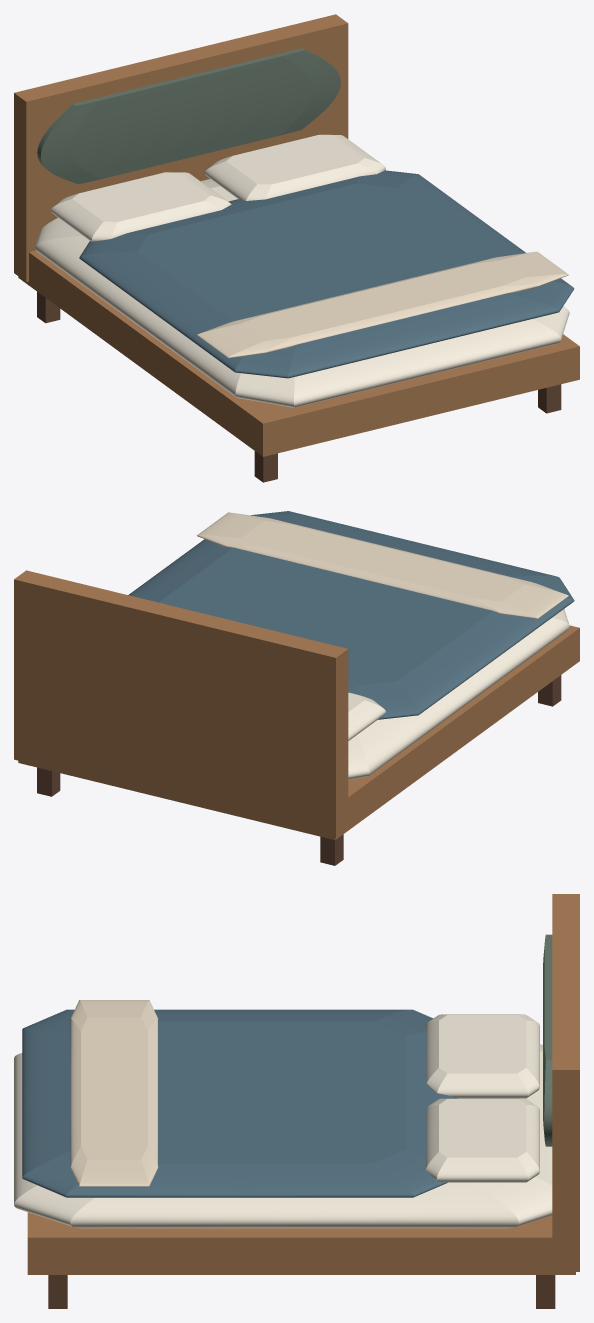
The model's file is double_bed.glb.
The picture shows the model from 3 angles, top to bottom: view 1: azimuth 30°, elevation 25°; view 2: azimuth 150°, elevation 25°; view 3: azimuth 270°, elevation 25°; orthographic projection. The views are drawn at different scales.
Parts seen in each view (by area): view 1: Duvet.001, Bed frame.001, Headboard inset.001, Headboard.001, Mattress.001, Folded blanket.001, Pillow.001, Pillow.002, Leg.004, Leg.006; view 2: Headboard.001, Duvet.001, Folded blanket.001, Bed frame.001, Mattress.001, Pillow.001, Leg.005, Leg.007, Leg.004; view 3: Duvet.001, Bed frame.001, Mattress.001, Folded blanket.001, Headboard.001, Pillow.002, Pillow.001, Headboard inset.001, Leg.006, Leg.007.
Boxes of the visible parts, x1,y1,x2,y2 form: Duvet.001: (79, 170, 574, 378); Bed frame.001: (18, 250, 579, 456); Headboard inset.001: (37, 48, 340, 184); Headboard.001: (14, 14, 348, 281); Mattress.001: (35, 179, 569, 407); Folded blanket.001: (197, 251, 568, 358); Pillow.001: (51, 172, 231, 241); Pillow.002: (204, 134, 385, 200); Leg.004: (254, 451, 277, 482); Leg.006: (538, 384, 561, 413); Headboard.001: (14, 570, 348, 837); Duvet.001: (128, 511, 574, 719); Folded blanket.001: (197, 512, 568, 618); Bed frame.001: (18, 625, 579, 839); Mattress.001: (348, 609, 569, 779); Pillow.001: (348, 692, 385, 740); Leg.005: (320, 834, 343, 865); Leg.007: (37, 767, 60, 796); Leg.004: (538, 675, 561, 706); Duvet.001: (22, 1009, 457, 1197); Bed frame.001: (27, 1212, 575, 1274); Mattress.001: (14, 1044, 552, 1228); Folded blanket.001: (70, 1000, 158, 1186); Headboard.001: (552, 894, 579, 1271); Pillow.002: (425, 1098, 539, 1182); Pillow.001: (425, 1014, 539, 1098); Headboard inset.001: (543, 934, 552, 1146); Leg.006: (48, 1275, 67, 1308); Leg.007: (536, 1275, 555, 1308).
Bounding box in the file's own units: 1.67 × 1.03 × 2.15.
